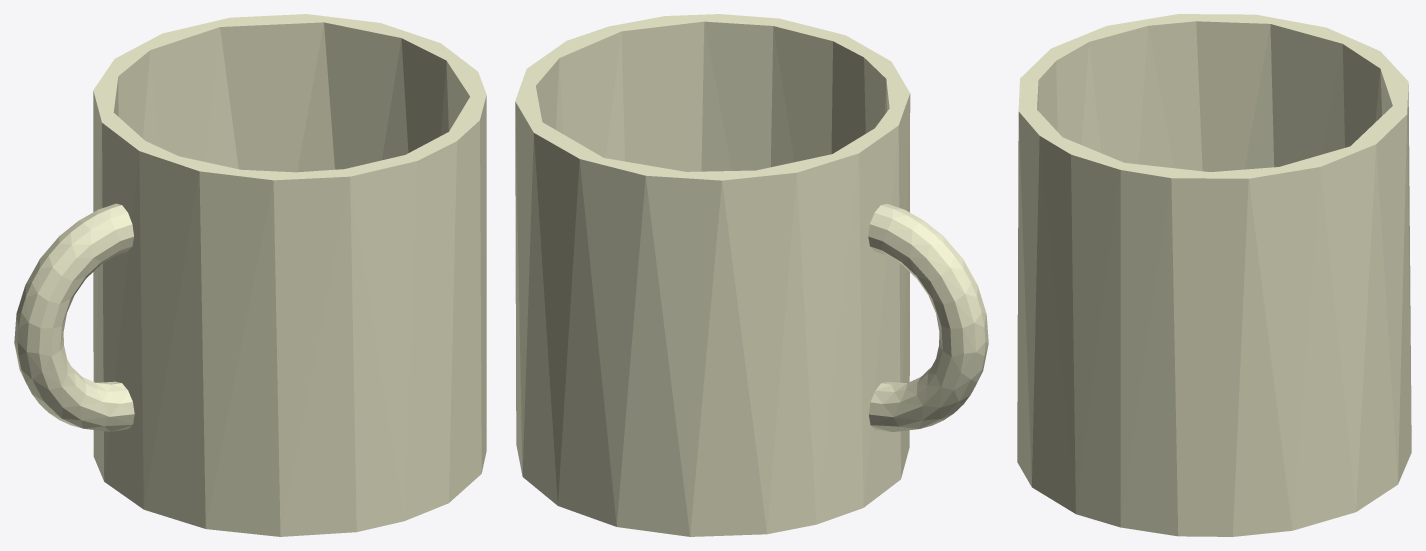
File: Kubek.dae
3 renders of one model, left to right at view 1: azimuth 30°, elevation 25°; view 2: azimuth 150°, elevation 25°; view 3: azimuth 270°, elevation 25°, orthographic.
Visible parts, largest first — view 1: Walec; view 2: Walec; view 3: Walec.
Part boxes in pixels (x1,y1,x2,y2): Walec: [14, 14, 486, 536]; Walec: [515, 14, 988, 536]; Walec: [1017, 14, 1411, 536].
Size of the model in its own units: 2.59 by 2 by 2.
